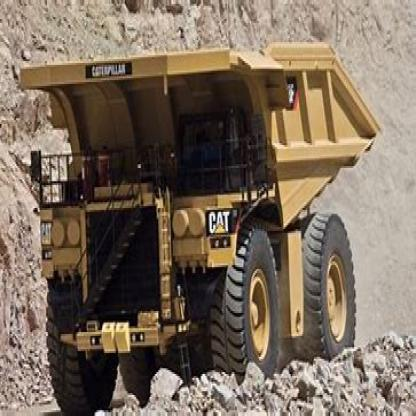dump_truck: (14, 19, 388, 408)
